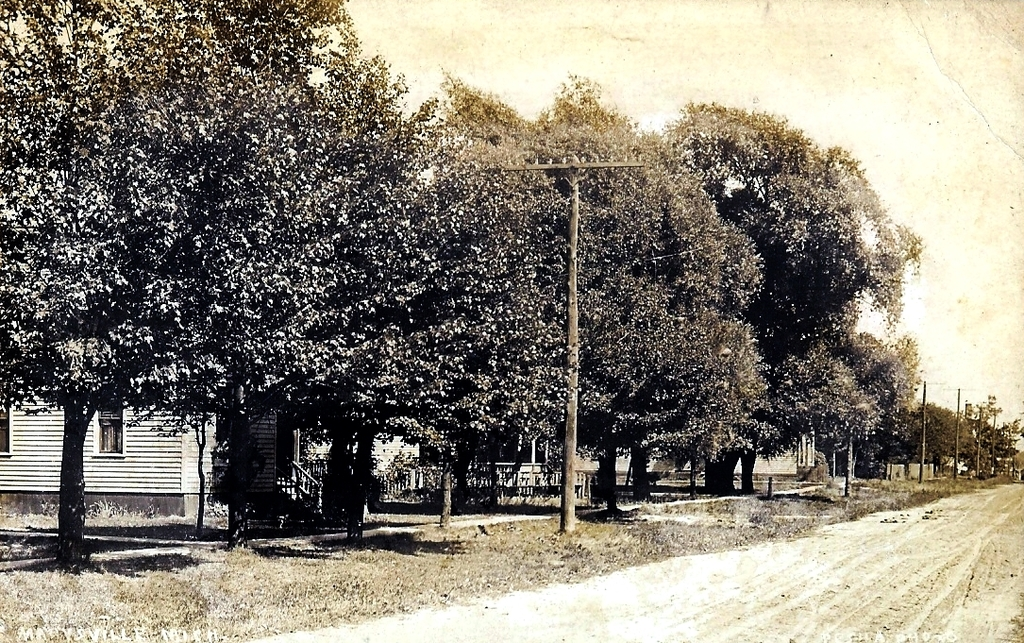Tree: (0, 0, 1023, 569), (639, 93, 925, 499)
